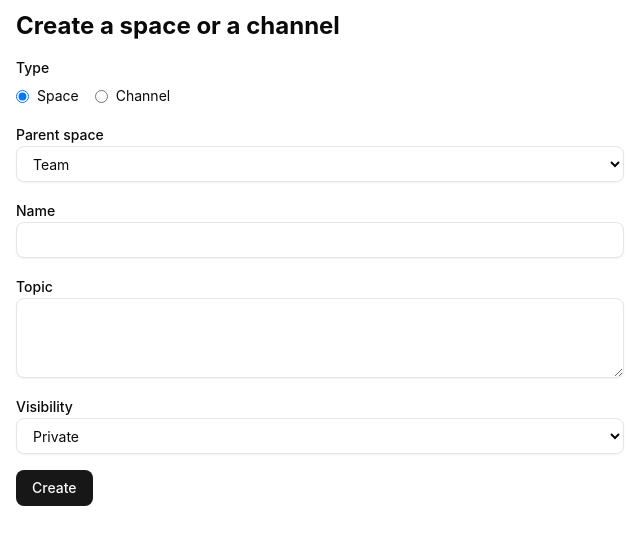
Test case: CreateRoomForm › requires a name
Click the button "Create": (54, 488) [16,470,93,506]
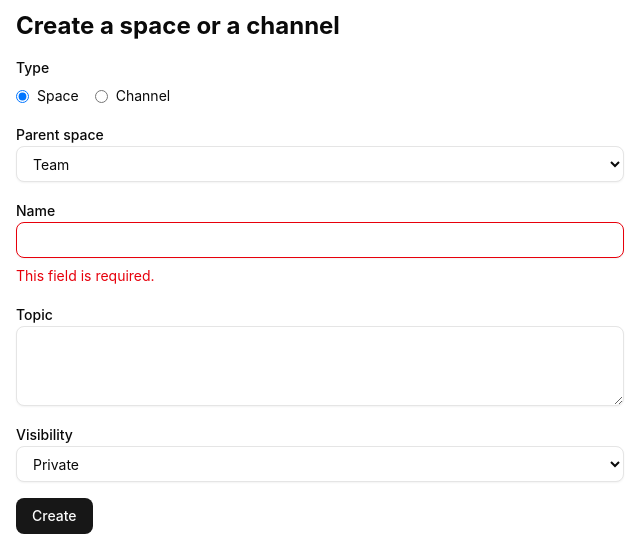
Result: the text "This field is required." is shown at [16,267,155,284]
